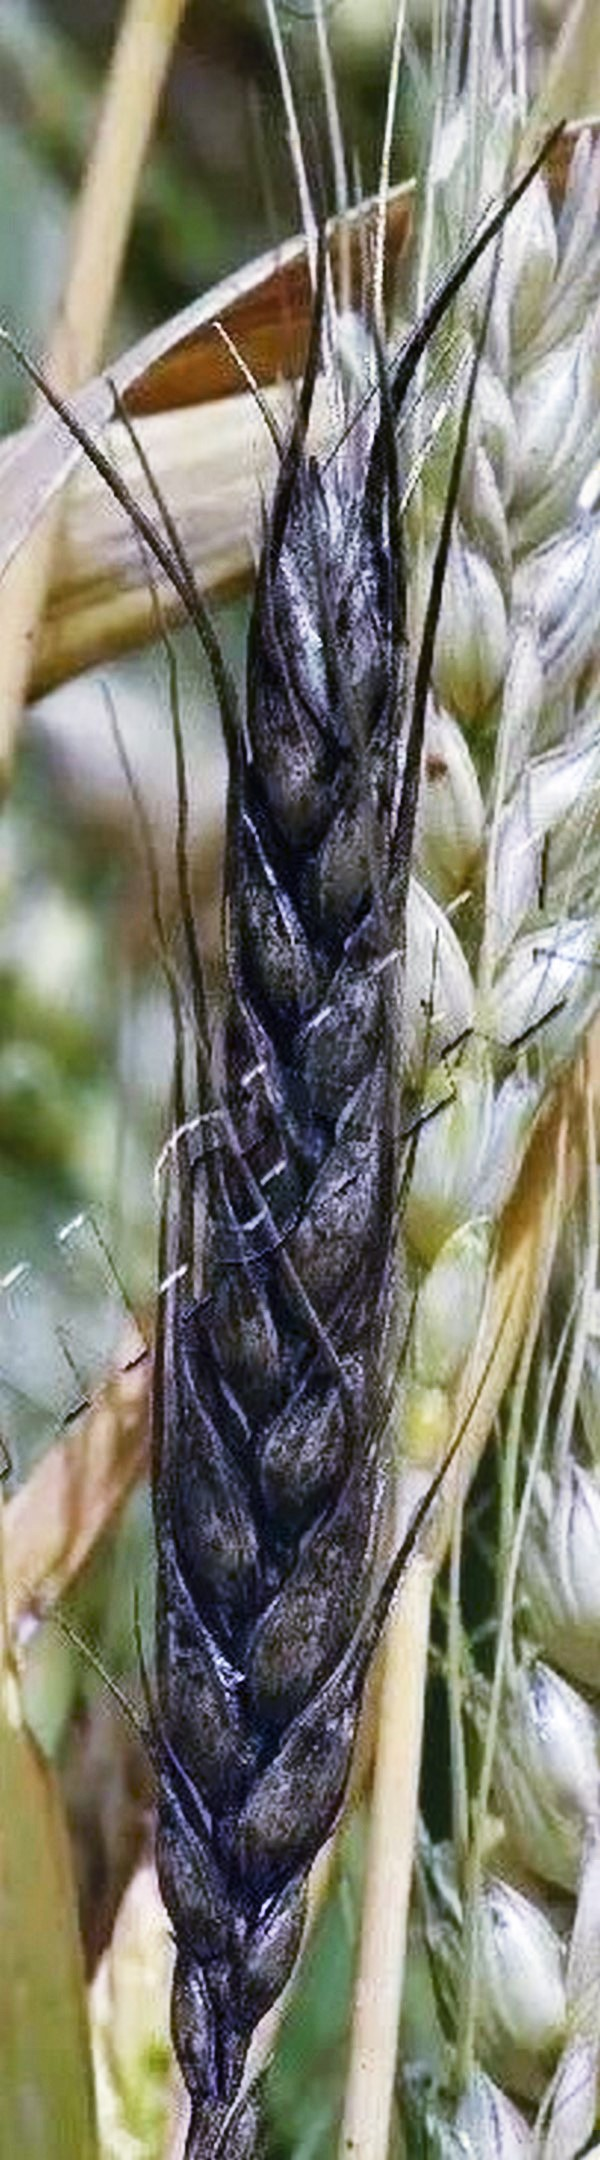Wheat Loose Smut: (113, 424, 478, 2054)
